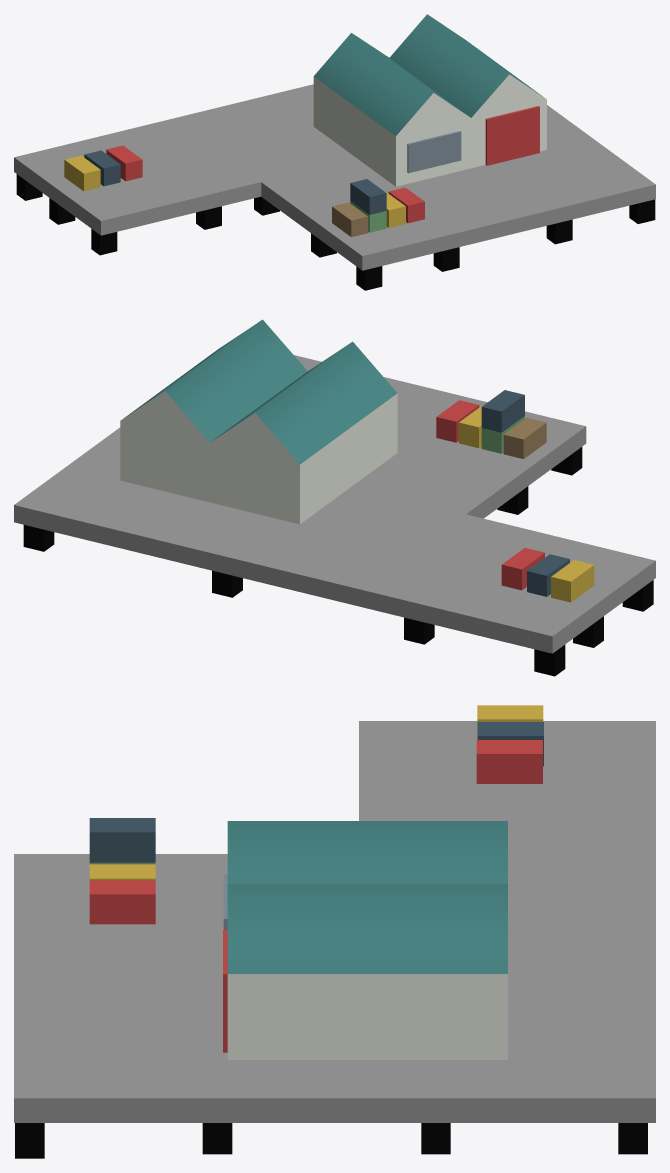
File: Harbour_Model.fbx
3 renders of one model, top to bottom at view 1: azimuth 30°, elevation 25°; view 2: azimuth 150°, elevation 25°; view 3: azimuth 270°, elevation 25°, orthographic. The views are drawn at different scales.
Visible parts, largest first — view 1: polySurface1; view 2: polySurface1; view 3: polySurface1.
Part boxes in pixels (<box>): polySurface1: <box>14,14,655,290</box>; polySurface1: <box>14,319,655,676</box>; polySurface1: <box>14,705,655,1158</box>.
Size of the model in its own units: 11.95 by 3.03 by 8.6.
Materials: 1 (1 with a texture image).
